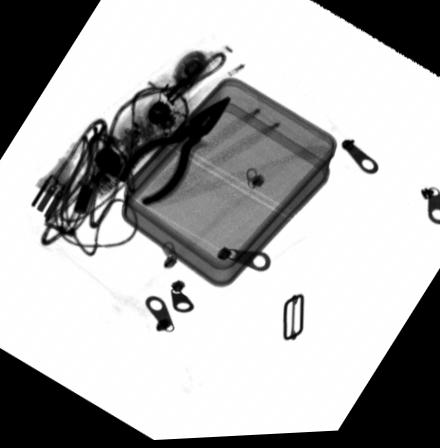Pliers: (116, 97, 230, 208)
